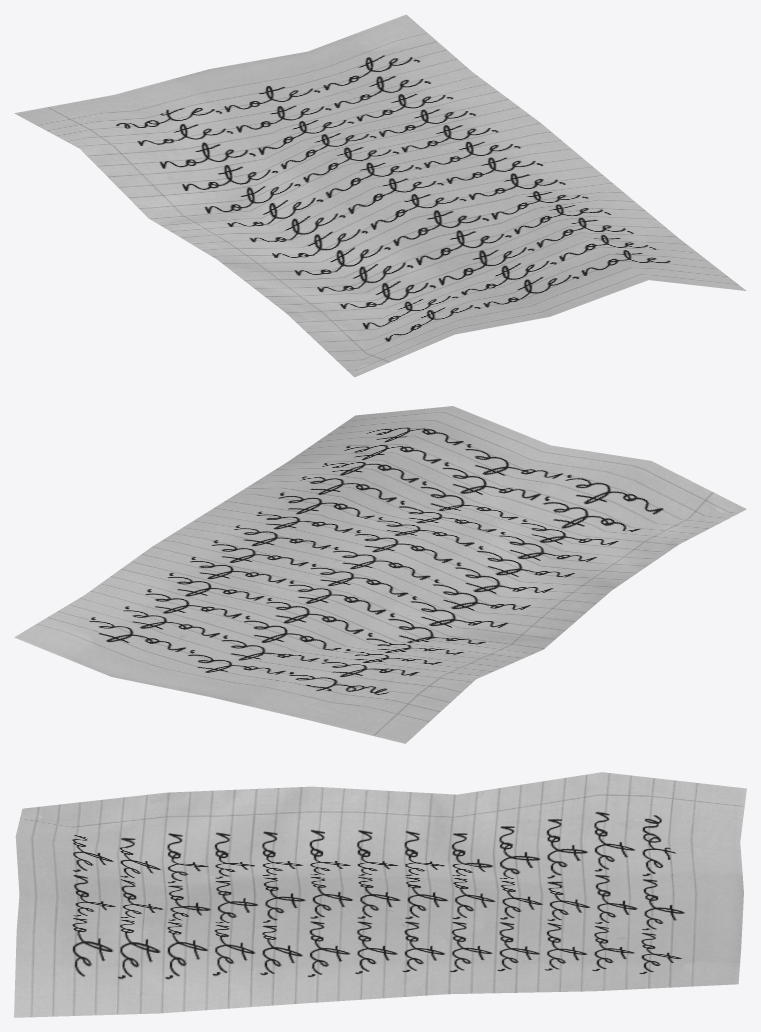
Rendered from Note.FBX.
3 views of the same model, one above another, from view 1: azimuth 30°, elevation 25°; view 2: azimuth 150°, elevation 25°; view 3: azimuth 270°, elevation 25° (orthographic). The views are drawn at different scales.
Parts seen in each view (by area): view 1: _Note; view 2: _Note; view 3: _Note.
Part boxes in pixels (x1=…): _Note: x1=14, y1=14, x2=746, y2=377; _Note: x1=14, y1=406, x2=746, y2=743; _Note: x1=14, y1=772, x2=746, y2=1017.
Bounding box in the file's own units: 36.91 × 3.36 × 55.64.
1 material, 1 textured.
